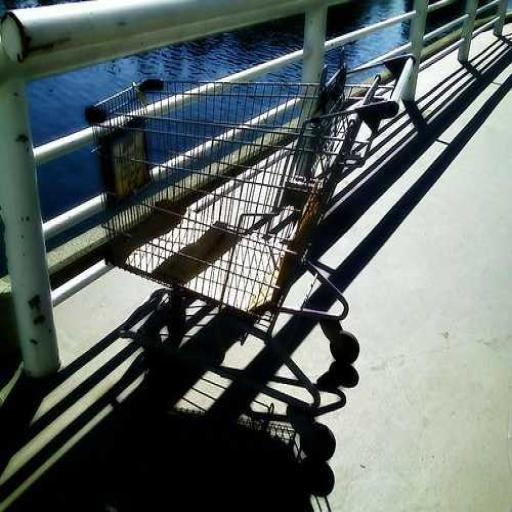shopping_cart: (84, 50, 420, 459)
